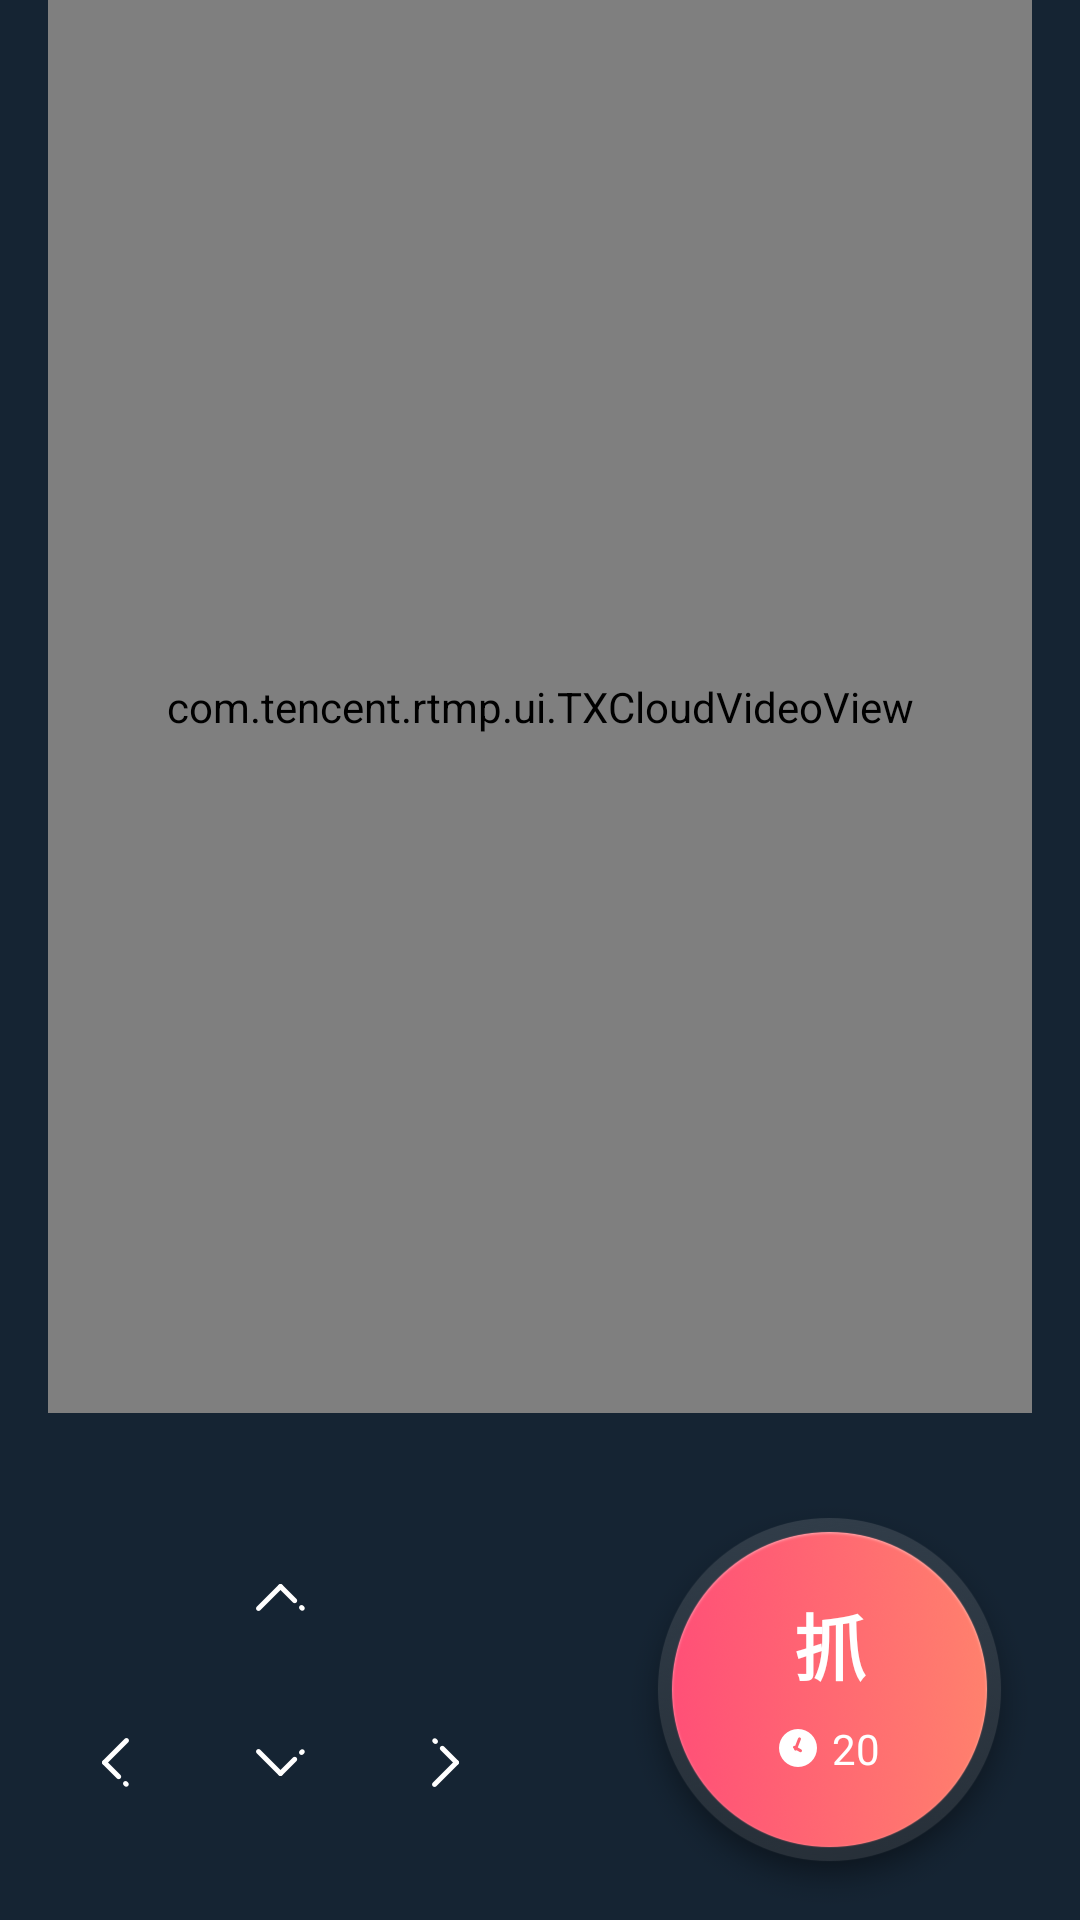

Named icons in this screenshot (1080x1920) and their bounding boxes, (x1, y1, x2, y2):
arrow down: (256, 1749, 305, 1776)
arrow left: (102, 1738, 129, 1787)
arrow right: (432, 1738, 459, 1787)
arrow up: (256, 1584, 305, 1611)
